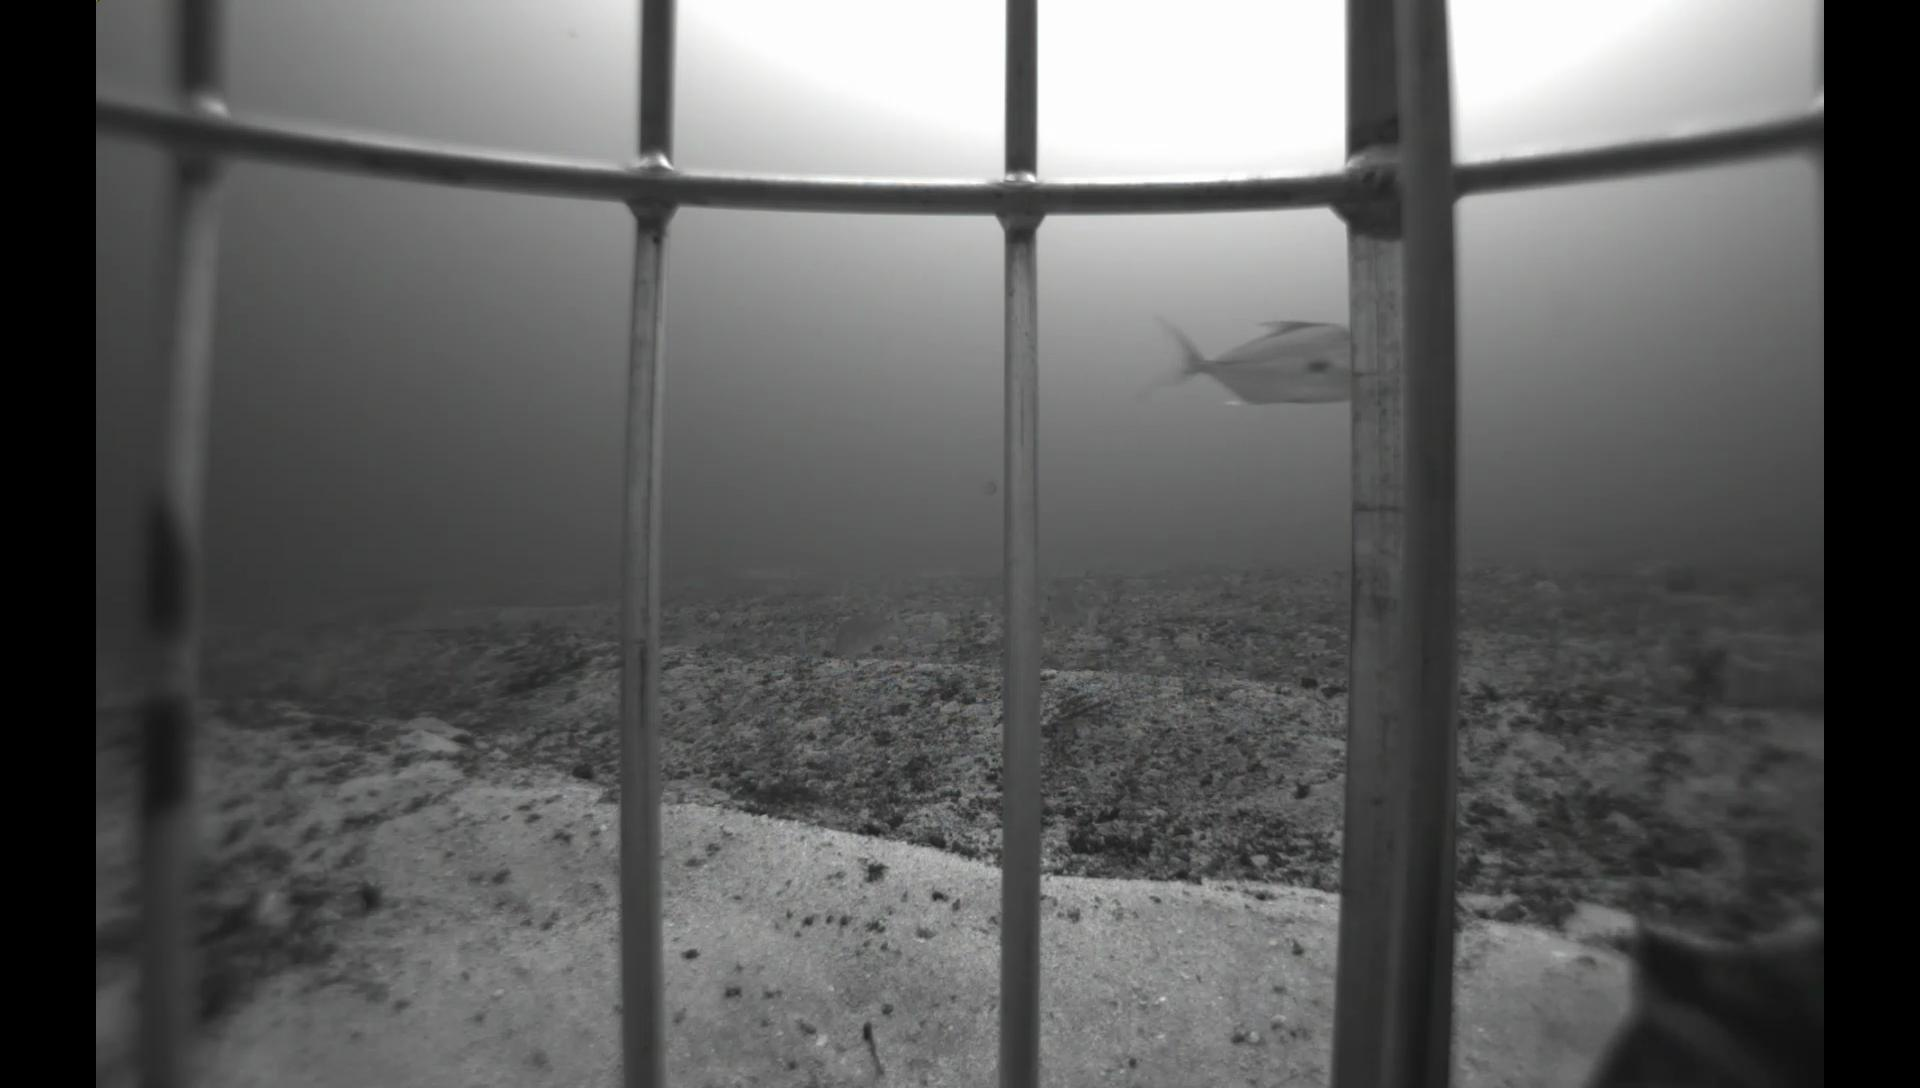CALAMUS-170210600: (1036, 578, 1106, 637), (832, 604, 906, 658)
EPINEPHELUSMORIO-170021211: (1555, 902, 1825, 1088)
RHOMBOPLITESAURORUBENS-170152001: (973, 473, 1001, 500)
SERIOLARIVOLIANA-170113105: (1120, 303, 1352, 415)
